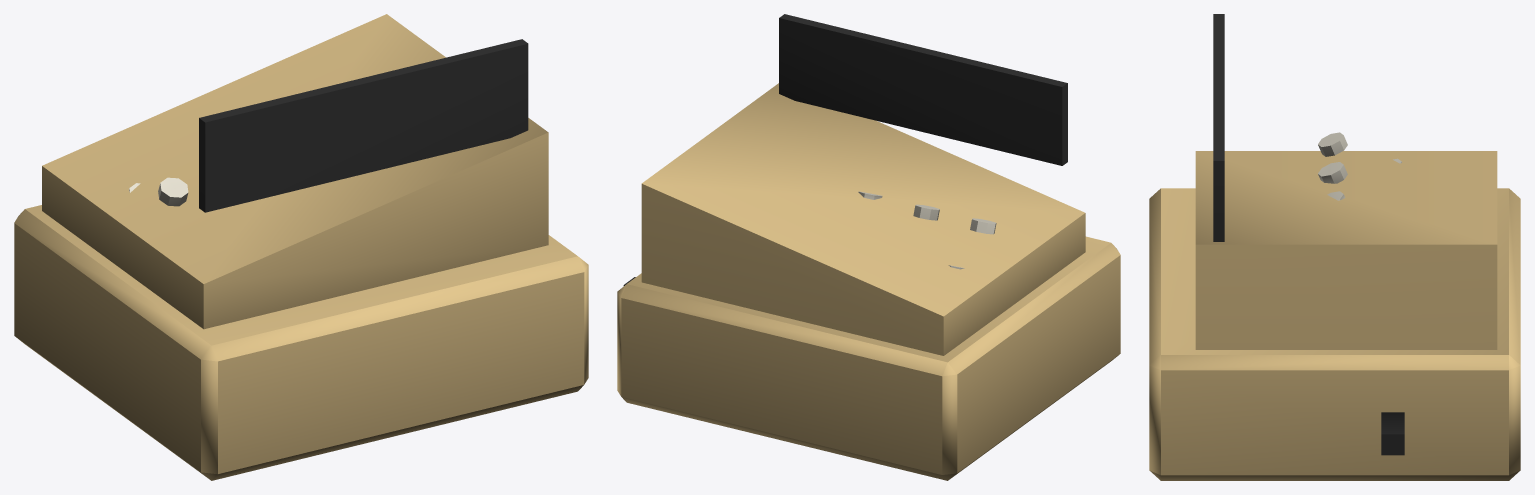
Rendered from till.glb.
The picture shows the model from 3 angles, left to right: view 1: azimuth 30°, elevation 25°; view 2: azimuth 150°, elevation 25°; view 3: azimuth 270°, elevation 25°; orthographic projection. The views are drawn at different scales.
Visible parts, largest first — view 1: static; view 2: static; view 3: static.
Boxes of the visible parts, x1,y1,x2,y2 form: static: [14, 14, 588, 480]; static: [617, 14, 1120, 480]; static: [1149, 14, 1520, 480].
Size of the model in its own units: 0.405 by 0.295 by 0.32.
